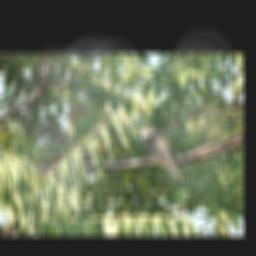Cuckoo: (134, 124, 191, 184)
